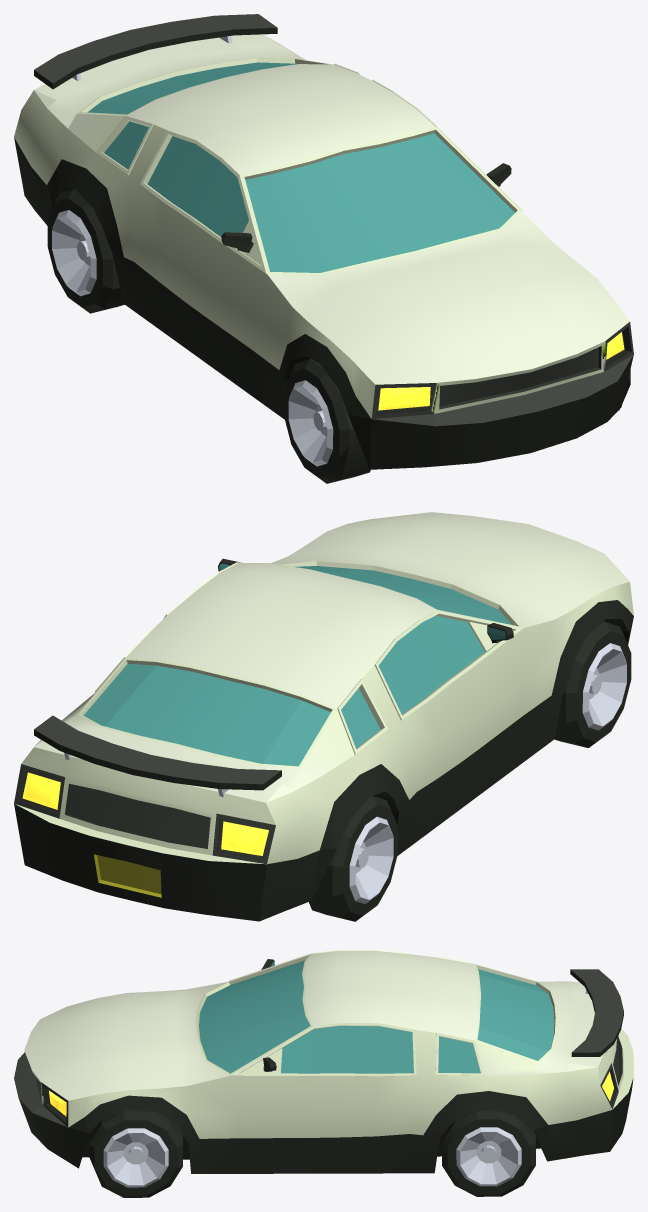
Rendered from White_Car.glb.
3 views of the same model, one above another, from view 1: azimuth 30°, elevation 25°; view 2: azimuth 150°, elevation 25°; view 3: azimuth 270°, elevation 25° (orthographic). The views are drawn at different scales.
Visible parts, largest first — view 1: Car_White; view 2: Car_White; view 3: Car_White.
Part boxes in pixels (<box>): Car_White: <box>14,14,633,483</box>; Car_White: <box>14,512,633,921</box>; Car_White: <box>14,950,633,1197</box>.
Size of what is drawn, in the model's own units: 2.59 by 1.79 by 6.07.
1 material, 1 textured.
